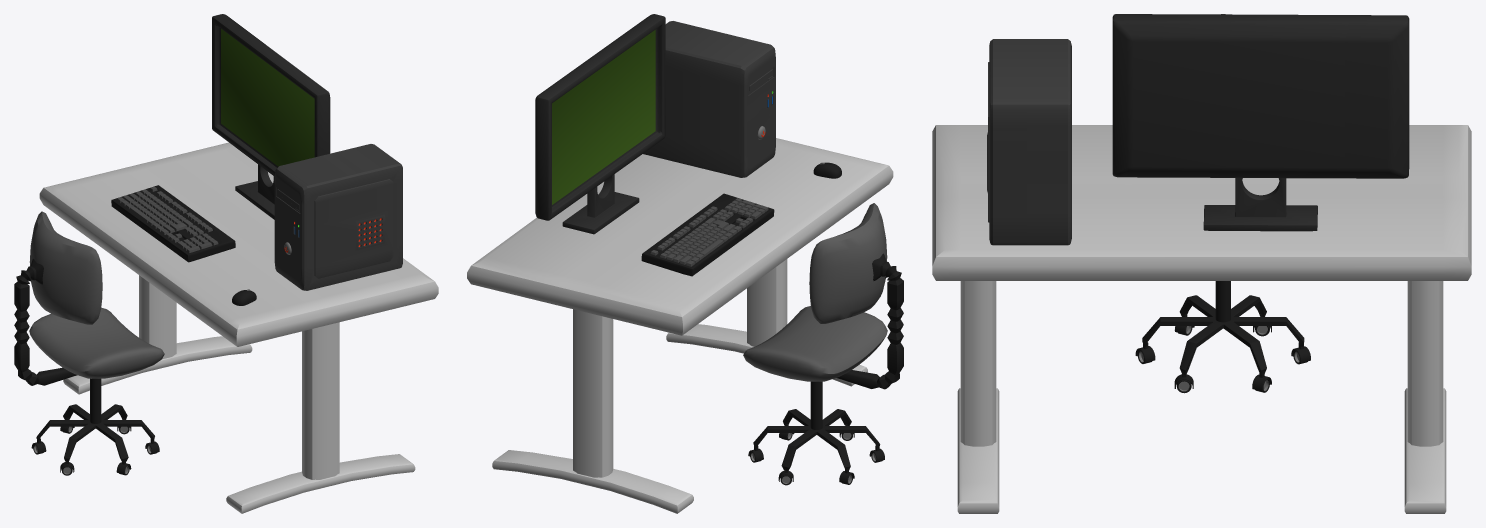
The model's file is ModelPc.glb.
3 renders of one model, left to right at view 1: azimuth 30°, elevation 25°; view 2: azimuth 150°, elevation 25°; view 3: azimuth 270°, elevation 25°, orthographic. The views are drawn at different scales.
Visible parts, largest first — view 1: Object_62; view 2: Object_62; view 3: Object_62.
Part boxes in pixels (x1,y1,x2,y2): Object_62: [14, 14, 438, 513]; Object_62: [467, 14, 903, 513]; Object_62: [932, 14, 1471, 513].
Bounding box in the file's own units: 1.86 × 1.94 × 2.
Materials: 1 (1 with a texture image).
